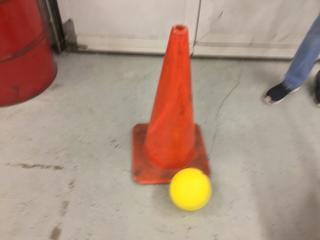power_cell: (167, 166, 215, 213)
